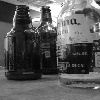beer: (7, 3, 41, 84)
